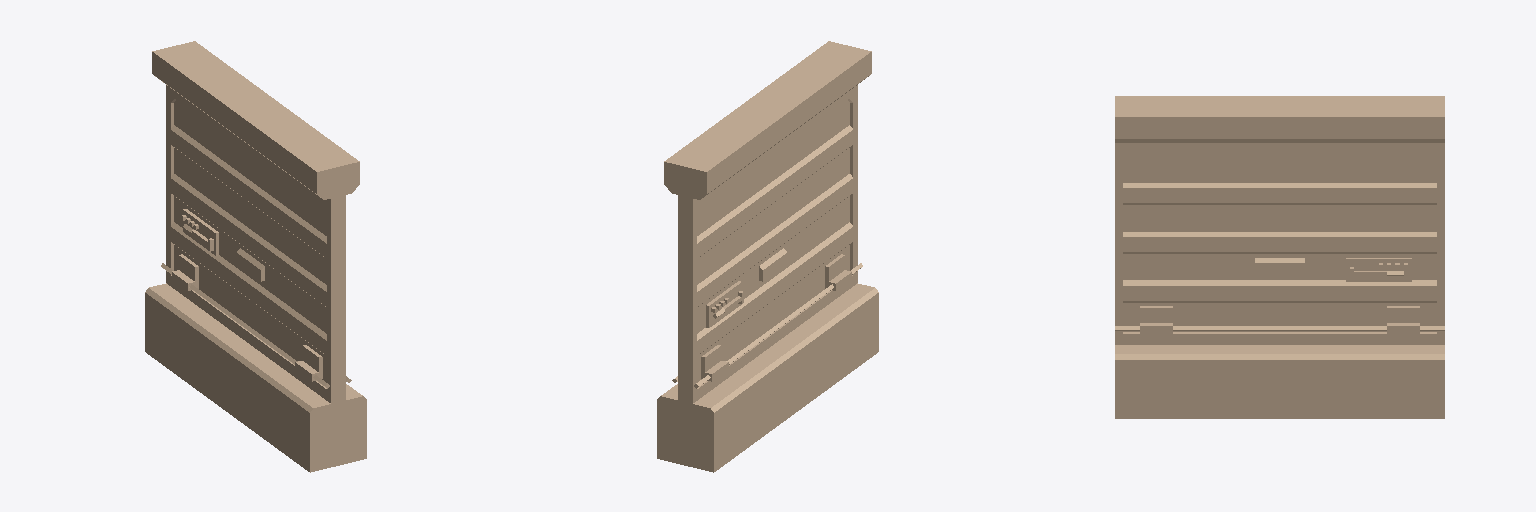
File: secure_access_door.obj
The picture shows the model from 3 angles: view 1: azimuth 30°, elevation 25°; view 2: azimuth 150°, elevation 25°; view 3: azimuth 270°, elevation 25°; orthographic projection.
Visible parts, largest first — view 1: door, base; view 2: door, base; view 3: door, base.
Boxes of the visible parts, x1=… form: door: x1=161, y1=45, x2=351, y2=407; base: x1=145, y1=41, x2=366, y2=472; door: x1=672, y1=45, x2=862, y2=407; base: x1=657, y1=41, x2=878, y2=472; door: x1=1115, y1=103, x2=1444, y2=344; base: x1=1115, y1=96, x2=1444, y2=418.
Size of the model in its own units: 1 by 5 by 5.